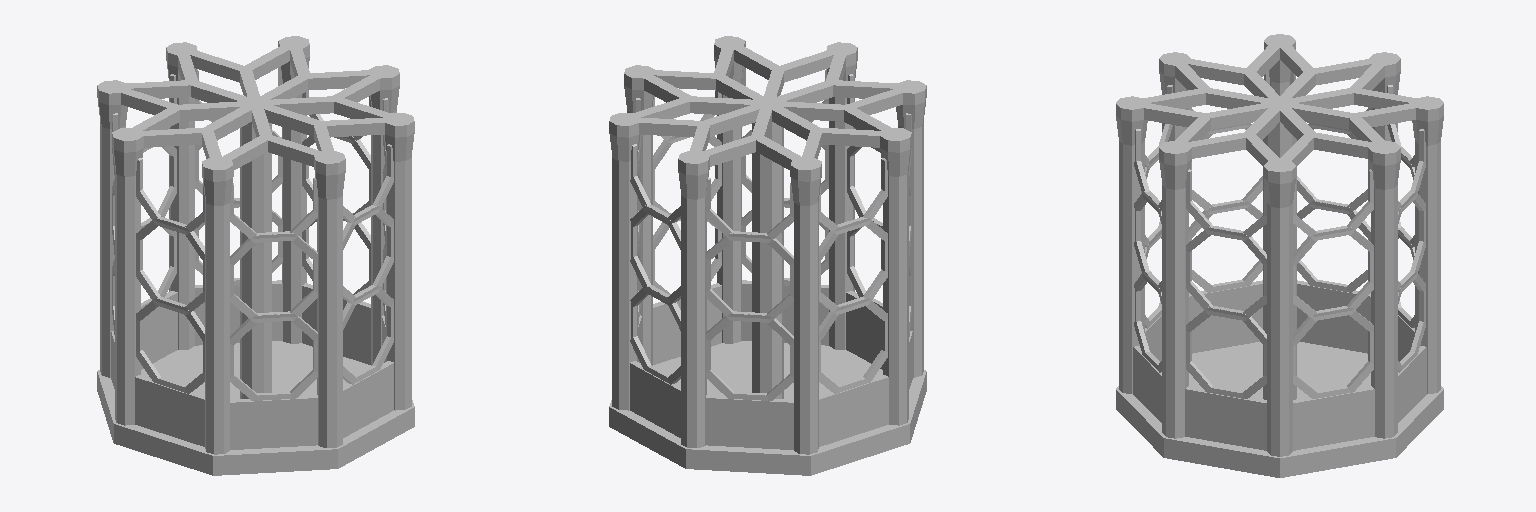
Rendered from sidetableobj.obj.
3 views of the same model, side by side, from view 1: azimuth 30°, elevation 25°; view 2: azimuth 150°, elevation 25°; view 3: azimuth 270°, elevation 25° (orthographic).
Visible parts, largest first — view 1: pCylinder34; view 2: pCylinder34; view 3: pCylinder34.
Boxes of the visible parts, <box> form: pCylinder34: <box>97,36,414,475</box>; pCylinder34: <box>609,36,926,475</box>; pCylinder34: <box>1116,34,1443,477</box>.
Bounding box in the file's own units: 33.98 × 34.86 × 33.98.